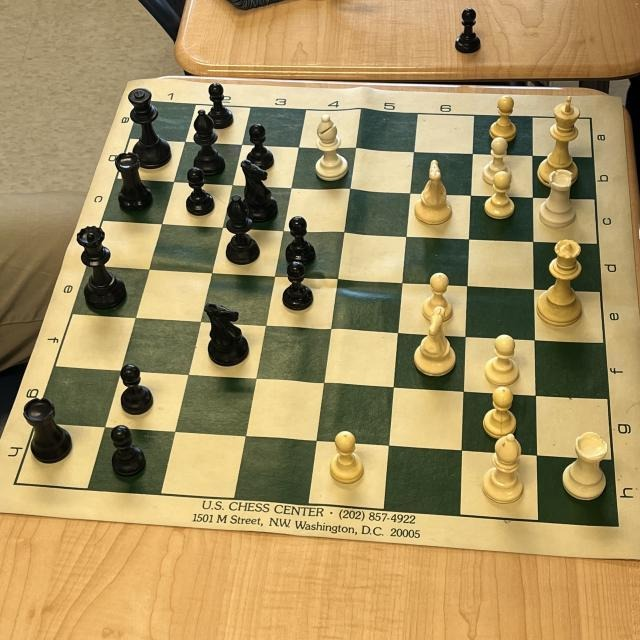black-bishop: (223, 194, 261, 266), (190, 106, 229, 174)
black-king: (127, 86, 173, 170)
black-knight: (201, 300, 251, 364), (237, 158, 278, 218)
black-pawn: (118, 362, 154, 417), (110, 423, 146, 477), (279, 261, 313, 311), (183, 164, 215, 216), (285, 215, 315, 263), (244, 122, 272, 170), (454, 6, 482, 54), (206, 77, 230, 126)
black-queen: (72, 222, 128, 310)
black-rook: (22, 396, 74, 464), (113, 150, 154, 214)
white-bishop: (481, 431, 527, 505), (315, 112, 349, 182)
white-king: (535, 94, 581, 189)
white-knight: (412, 310, 457, 378), (414, 158, 454, 226)
white-pawn: (329, 428, 367, 484), (483, 332, 520, 385), (482, 387, 519, 436), (422, 271, 454, 323), (480, 136, 512, 184), (488, 95, 518, 139), (485, 174, 515, 218)
white-queen: (534, 239, 585, 327)
white-rook: (559, 429, 609, 500), (536, 167, 576, 229)
